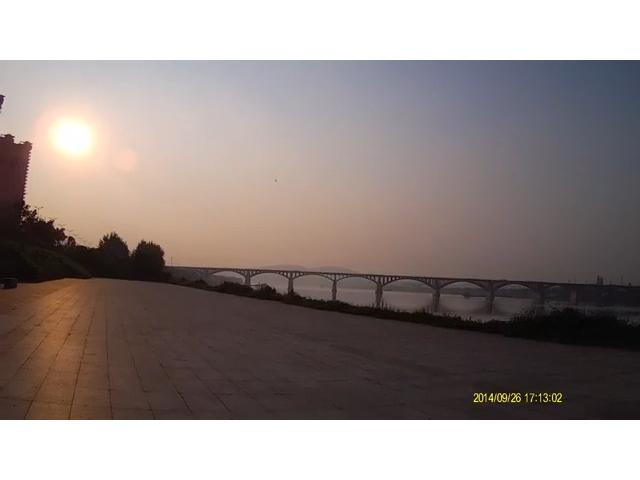Anti-Drone: (261, 172, 287, 193)
